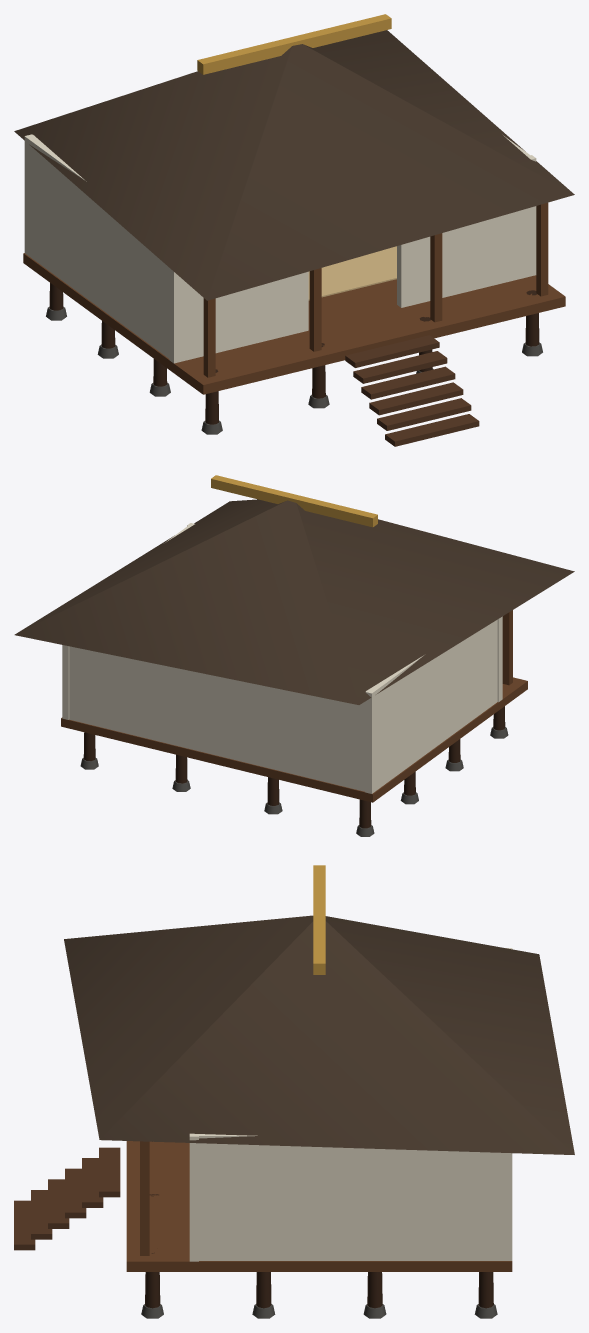
Rendered from rumah-melayu-bangka.glb.
The picture shows the model from 3 angles, top to bottom: view 1: azimuth 30°, elevation 25°; view 2: azimuth 150°, elevation 25°; view 3: azimuth 270°, elevation 25°; orthographic projection. The views are drawn at different scales.
Parts seen in each view (by area): view 1: ROOF_SYSTEM, WALL_SYSTEM, FLOOR_SYSTEM, ENTRANCE_STAIRS, STRUCTURAL_COLUMNS, INTERIOR_MAT, FOUNDATION_SYSTEM; view 2: ROOF_SYSTEM, WALL_SYSTEM, FLOOR_SYSTEM, STRUCTURAL_COLUMNS, FOUNDATION_SYSTEM; view 3: ROOF_SYSTEM, WALL_SYSTEM, FLOOR_SYSTEM, ENTRANCE_STAIRS, STRUCTURAL_COLUMNS, FOUNDATION_SYSTEM.
Part boxes in pixels (left/top/right/bottom): ROOF_SYSTEM: left=14, top=14, right=574, bottom=300; WALL_SYSTEM: left=24, top=134, right=536, bottom=363; FLOOR_SYSTEM: left=23, top=253, right=565, bottom=394; ENTRANCE_STAIRS: left=345, top=335, right=479, bottom=446; STRUCTURAL_COLUMNS: left=49, top=202, right=548, bottom=424; INTERIOR_MAT: left=308, top=246, right=396, bottom=300; FOUNDATION_SYSTEM: left=46, top=306, right=542, bottom=434; ROOF_SYSTEM: left=14, top=475, right=574, bottom=704; WALL_SYSTEM: left=62, top=523, right=502, bottom=793; FLOOR_SYSTEM: left=61, top=677, right=527, bottom=802; STRUCTURAL_COLUMNS: left=83, top=610, right=512, bottom=828; FOUNDATION_SYSTEM: left=80, top=727, right=508, bottom=836; ROOF_SYSTEM: left=64, top=865, right=574, bottom=1154; WALL_SYSTEM: left=189, top=948, right=512, bottom=1261; FLOOR_SYSTEM: left=126, top=1141, right=512, bottom=1271; ENTRANCE_STAIRS: left=14, top=1147, right=120, bottom=1250; STRUCTURAL_COLUMNS: left=140, top=1141, right=493, bottom=1308; FOUNDATION_SYSTEM: left=141, top=1304, right=497, bottom=1318.
Size of what is drawn, in the model's own units: 9.81 by 6.7 by 10.76.
